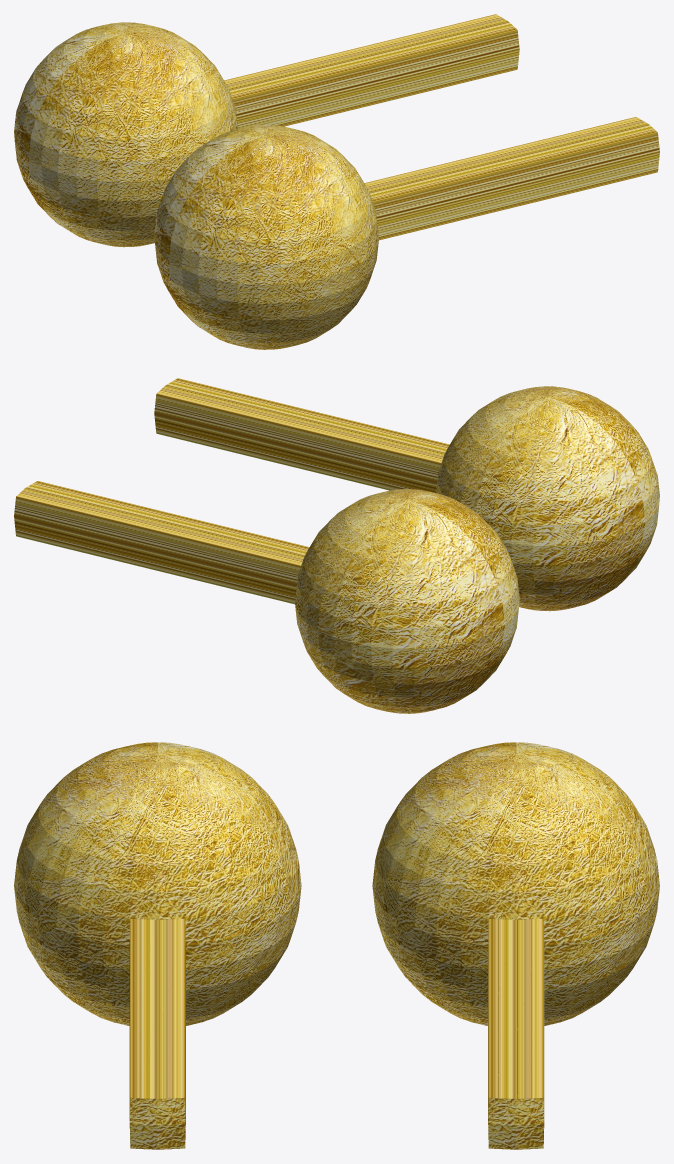
Rendered from pendientes1.glb.
3 renders of one model, top to bottom at view 1: azimuth 30°, elevation 25°; view 2: azimuth 150°, elevation 25°; view 3: azimuth 270°, elevation 25°, orthographic. The views are drawn at different scales.
Parts seen in each view (by area): view 1: Esfera, Esfera.001; view 2: Esfera.001, Esfera; view 3: Esfera, Esfera.001.
Boxes of the visible parts, <box> form: Esfera: <box>154,117,659,349</box>; Esfera.001: <box>14,14,519,247</box>; Esfera.001: <box>14,481,519,713</box>; Esfera: <box>154,378,659,611</box>; Esfera: <box>14,742,301,1149</box>; Esfera.001: <box>372,742,659,1149</box>.
Bounding box in the file's own units: 4.94 × 2 × 4.49.
Materials: 1 (1 with a texture image).
